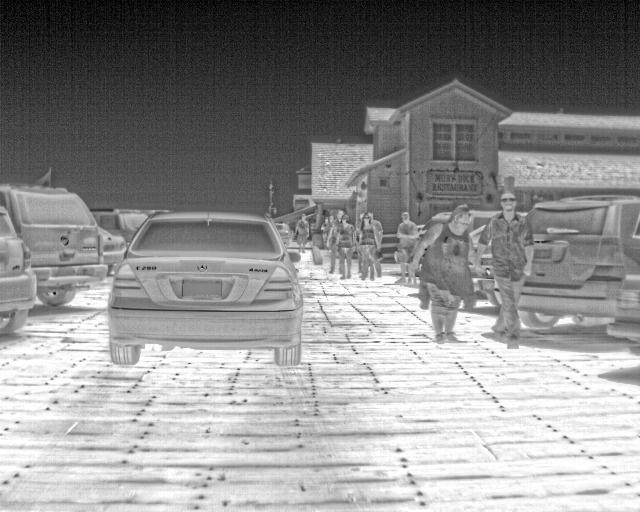bicycle: (108, 207, 305, 367), (520, 192, 639, 331), (2, 180, 106, 309), (0, 205, 35, 339), (91, 207, 147, 241), (100, 228, 126, 273), (271, 221, 290, 249)
empty: (410, 203, 491, 342), (483, 192, 535, 350), (395, 212, 421, 279), (356, 217, 379, 280), (329, 210, 350, 273), (337, 216, 359, 276), (293, 212, 311, 254), (319, 214, 332, 248)
